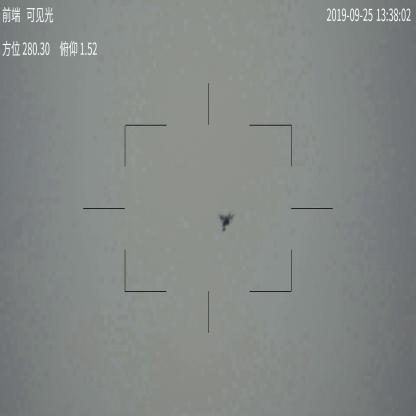uav: (218, 212, 234, 235)
